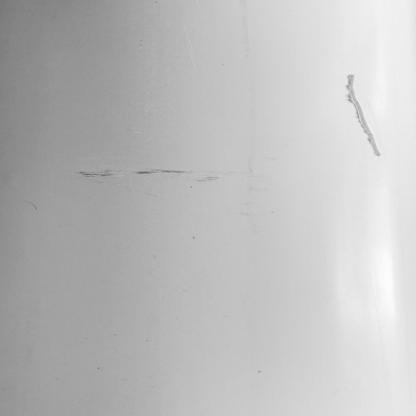sunshang: (340, 72, 384, 155), (72, 167, 220, 185)
